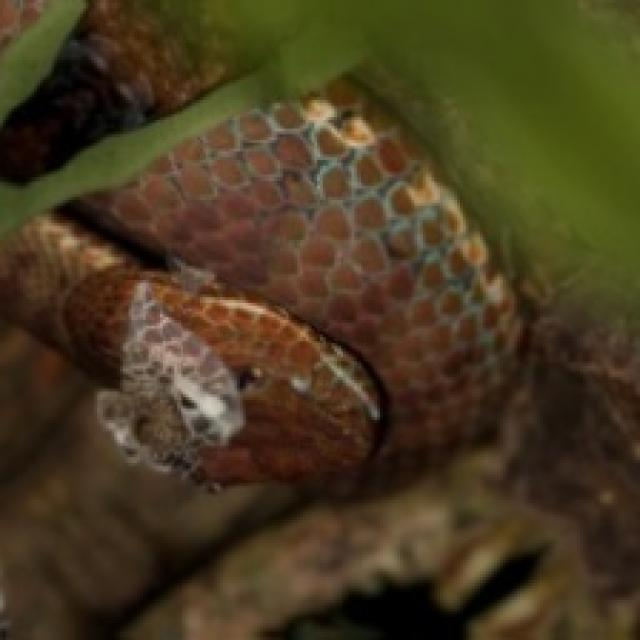philippine pitviper: (0, 80, 520, 491), (0, 0, 231, 180)
